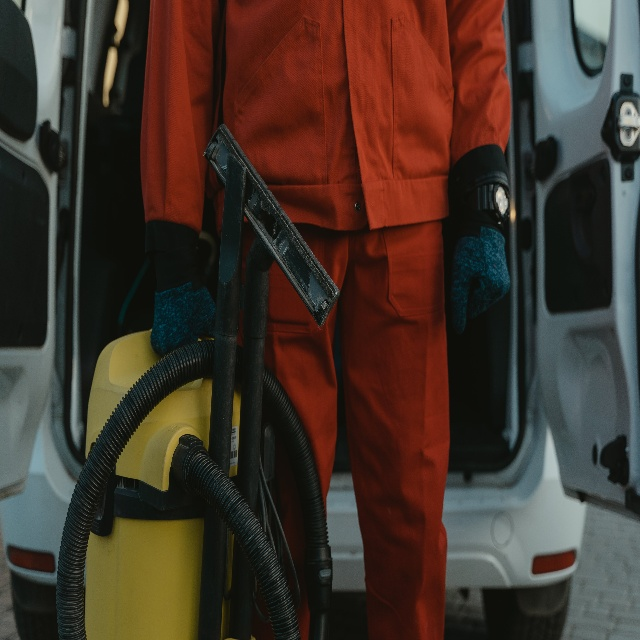Guantes: (453, 226, 511, 336), (149, 281, 216, 355)
